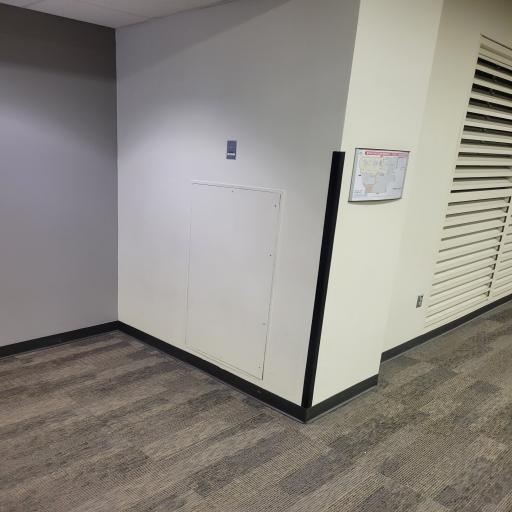floor layout map: (351, 144, 408, 206)
